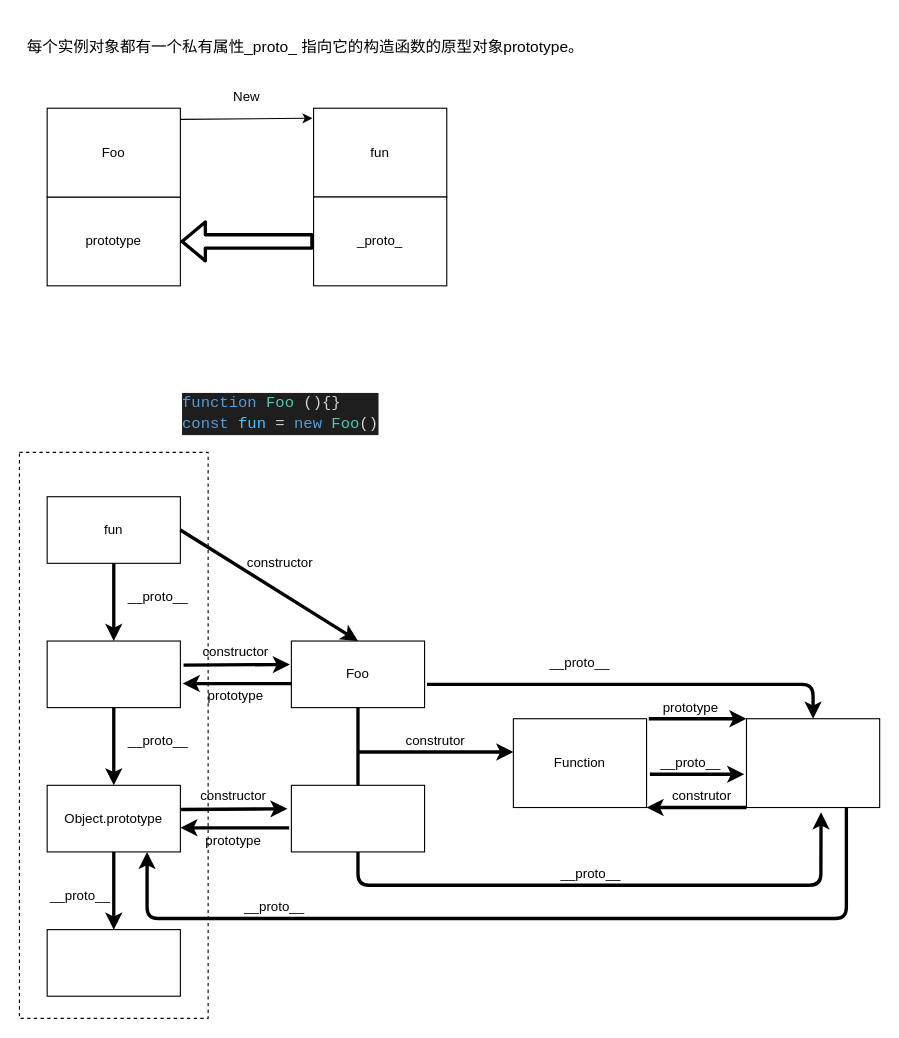
Some shapes in this 899 by 1038 pixel diagram are drawn without their labels. The centre of each missing label's shape, as x and y in pixels:
"Foo.prototype" goes at point 113,674.
"Function.prototype" goes at point 812,763.
"null" goes at point 113,962.
"Object" goes at point 357,818.
